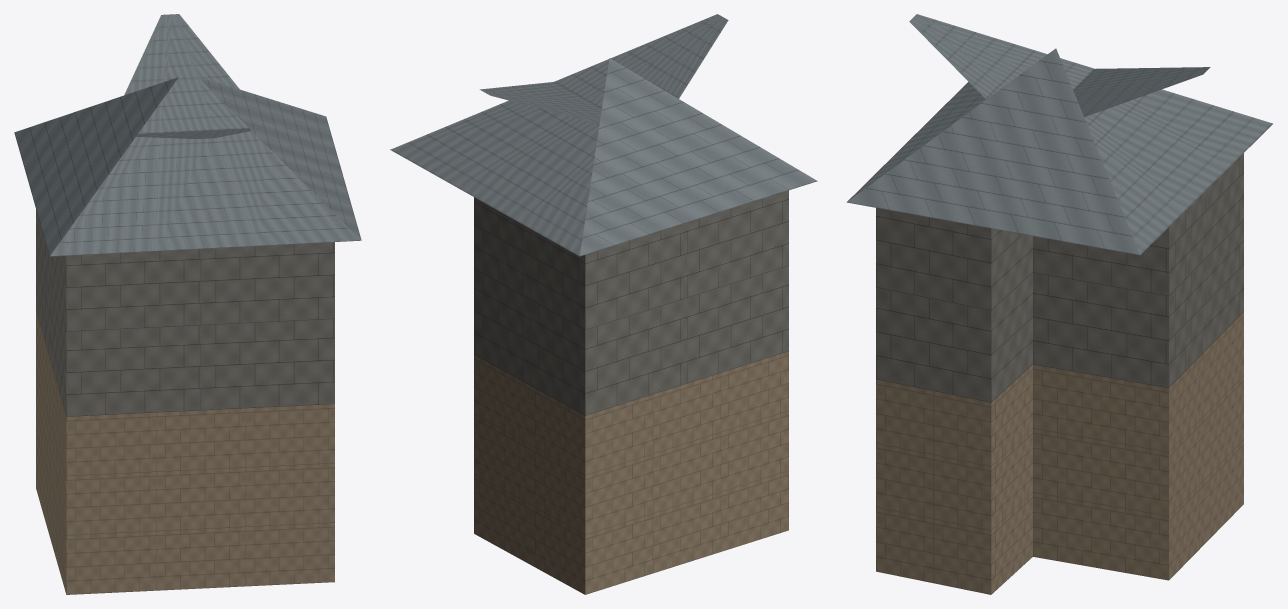
The model's file is bld_c0_9_487.gltf.
The picture shows the model from 3 angles, left to right: view 1: azimuth 30°, elevation 25°; view 2: azimuth 150°, elevation 25°; view 3: azimuth 270°, elevation 25°; orthographic projection. The views are drawn at different scales.
Parts seen in each view (by area): view 1: bld_c0_9_487; view 2: bld_c0_9_487; view 3: bld_c0_9_487.
Part boxes in pixels (bbox=[...]): bld_c0_9_487: bbox=[14, 14, 361, 594]; bld_c0_9_487: bbox=[390, 14, 817, 594]; bld_c0_9_487: bbox=[846, 14, 1272, 594].
Size of the model in its own units: 10.44 by 13.03 by 10.19.
Materials: 3 (3 with a texture image).
